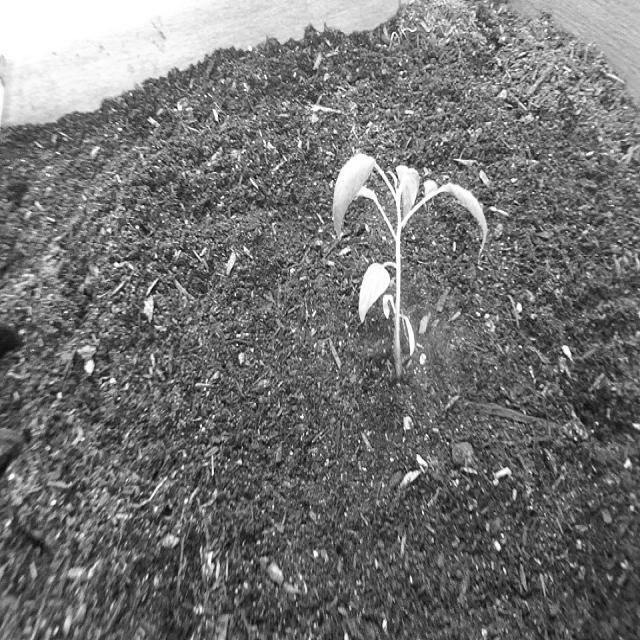Healthy: (315, 113, 496, 400)
